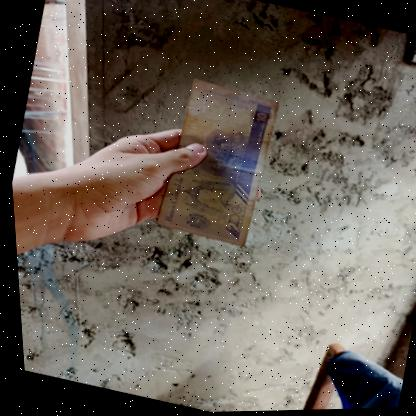ten-back-vef: (144, 76, 286, 252)
